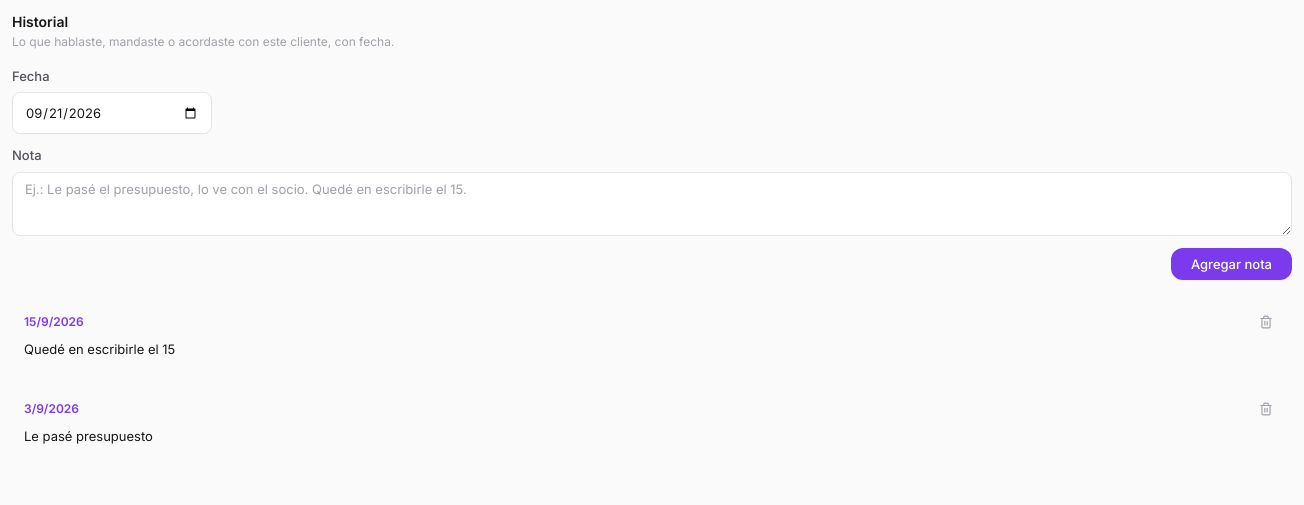
it: ClientNotes — add › keeps the text and shows the error when saving fails (triangulation)
This screenshot has width=1304, height=505.
In the text box labelled "Nota": [652, 204] box [12,172,1292,236], type "Algo"
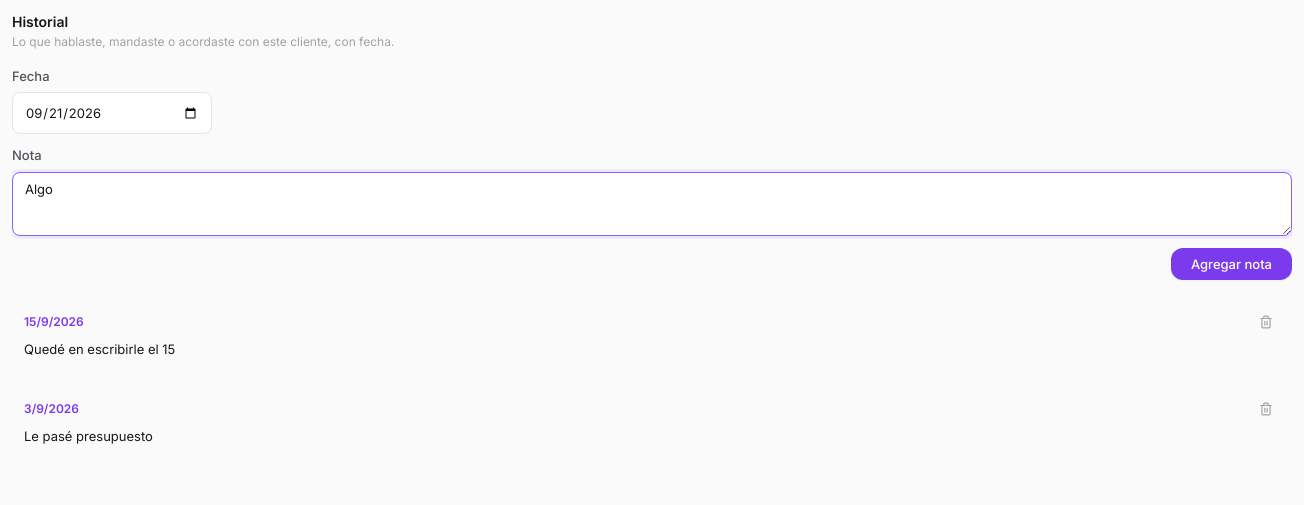
Click the button "Agregar nota": [1231, 264] box [1171,248,1292,280]
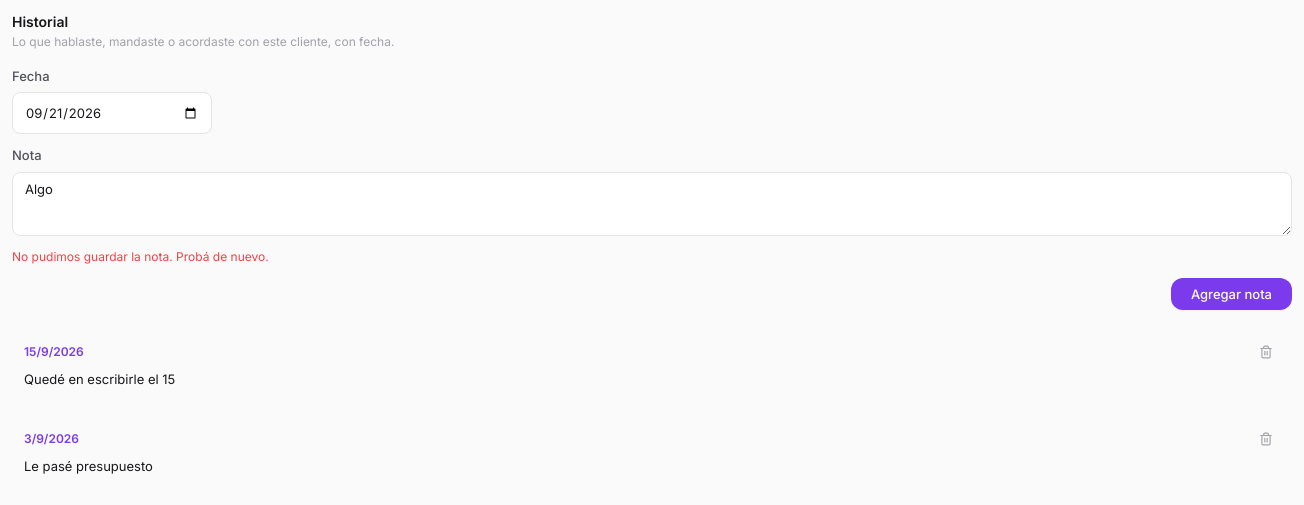
Expected: the number of list items is 2, [12,326,1292,401]; [12,413,1292,488]
Expected: the text "No pudimos guardar la nota. Probá de nuevo." is shown, [12,248,269,264]
